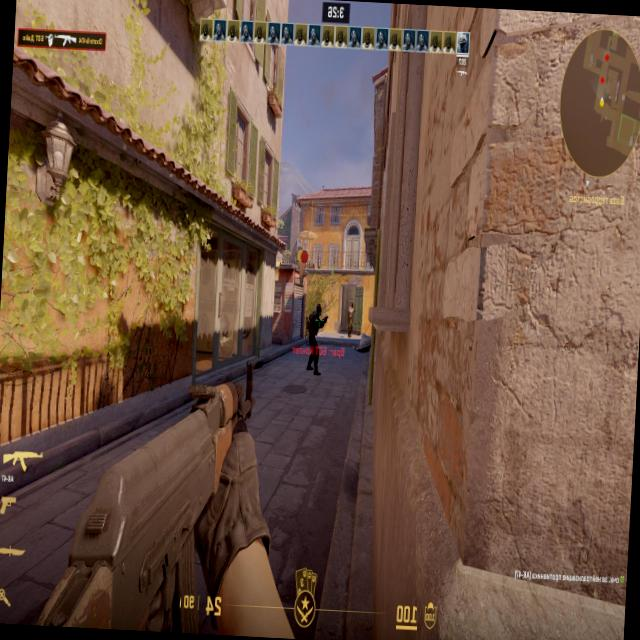CT: (309, 301, 321, 363)
CT_heat: (313, 308, 320, 320)
T: (348, 304, 354, 332)
T_heat: (350, 304, 353, 312)
